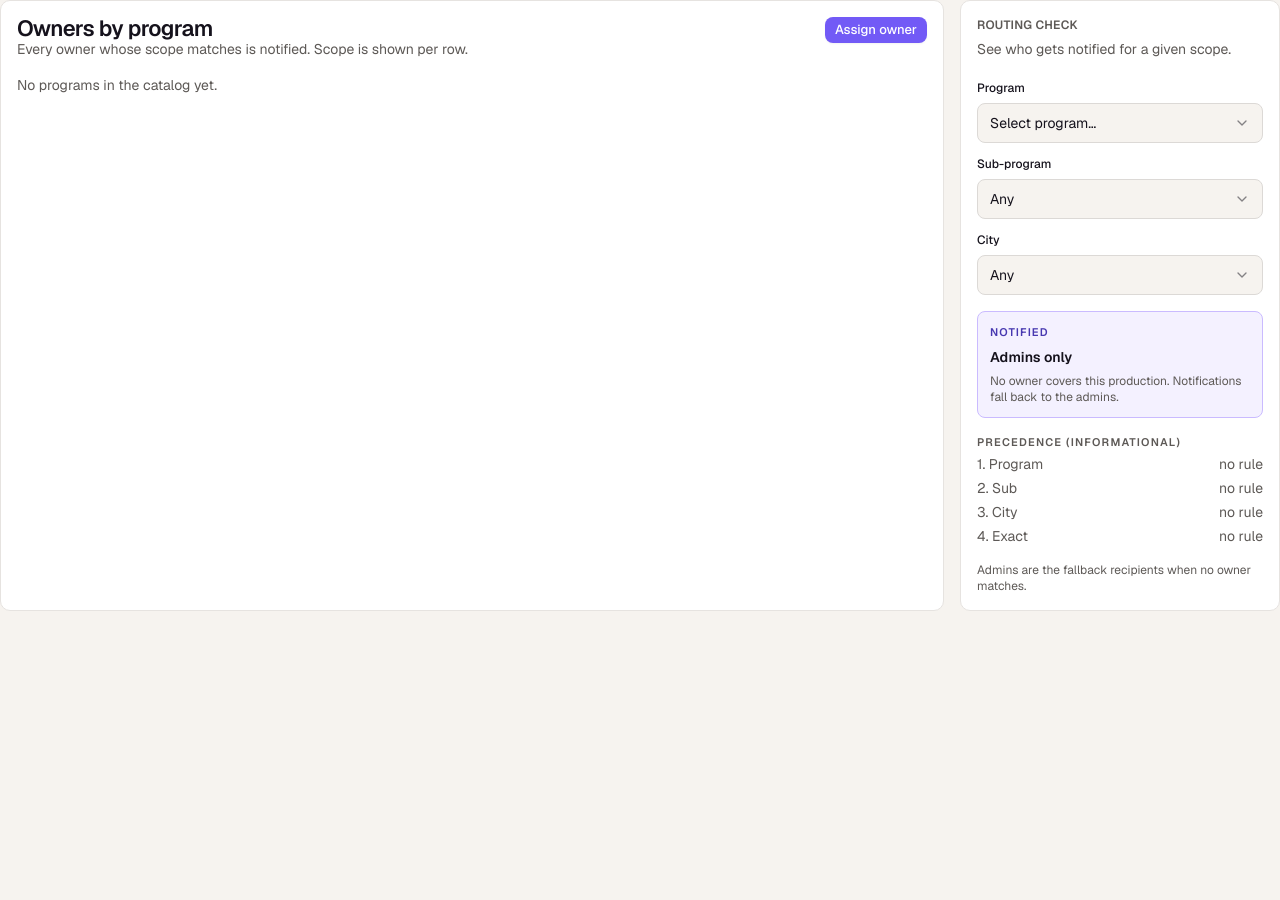
Test case: OwnershipPanel › falls back to admins-only when no assignment matches the routing-check scope
Note: Macbeth has no owner at all.
Click the dropdown labelled "Select program…": (1043, 123) [977,103,1263,143]
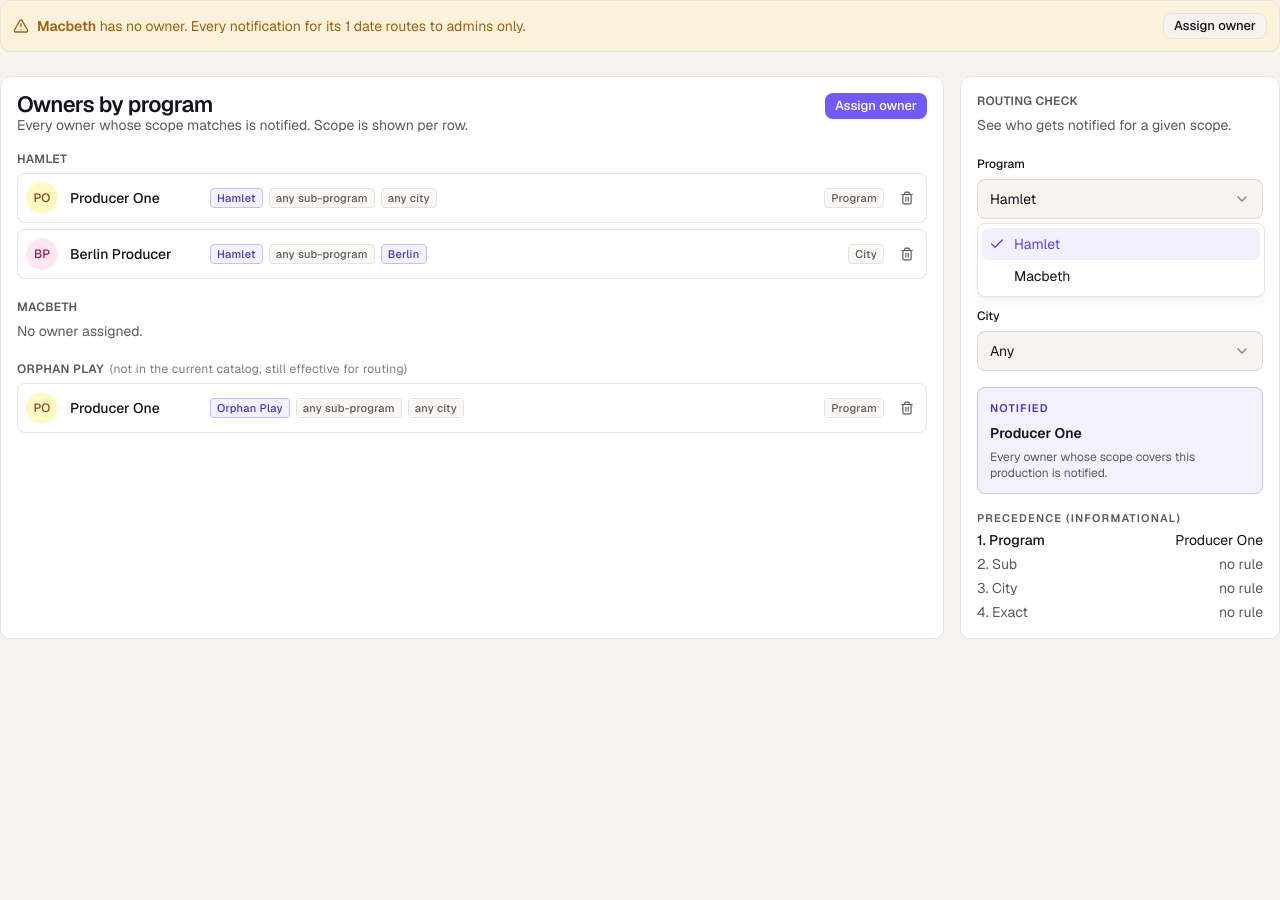
Click the option "Macbeth": (1042, 276) [1014,267,1070,285]
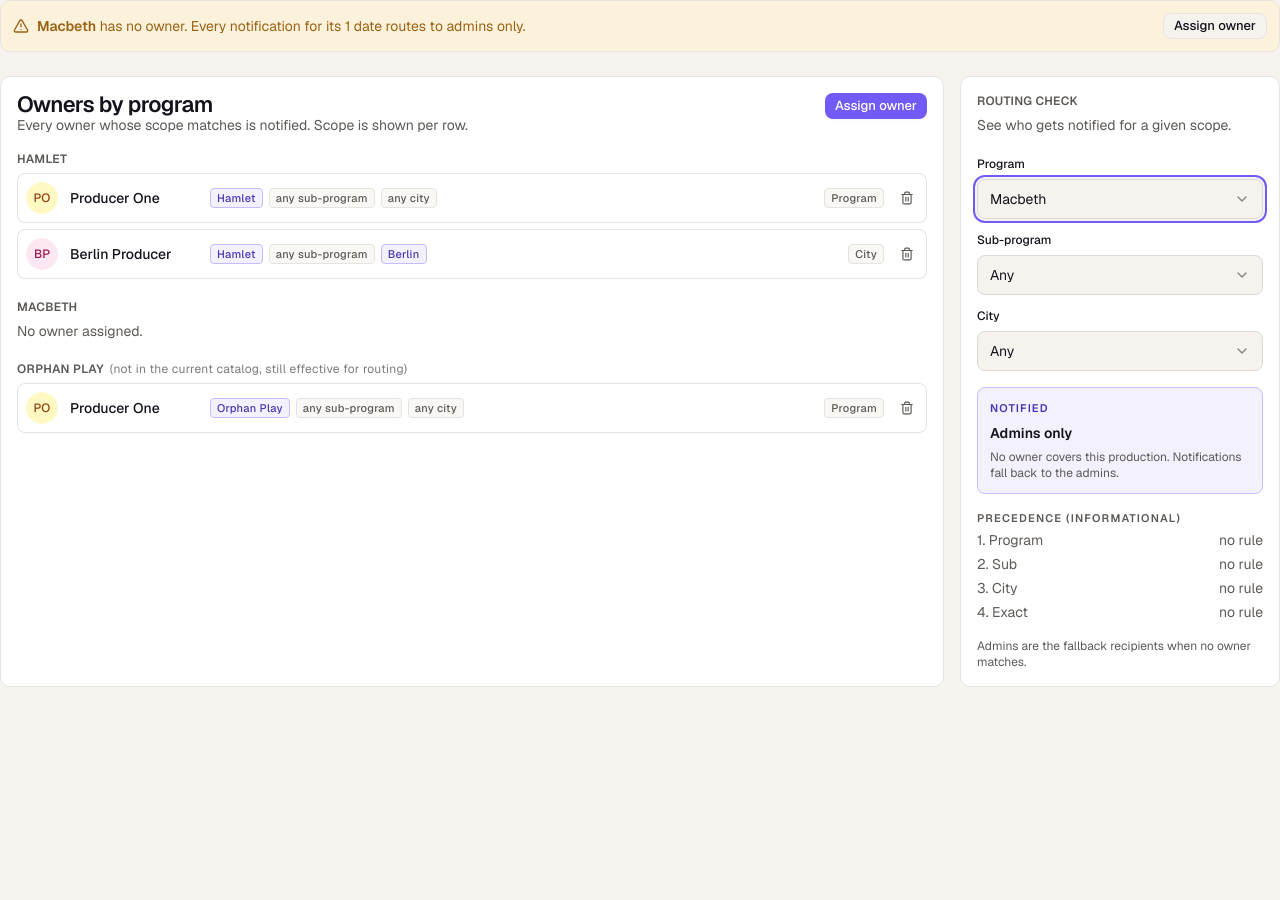
Expected: the text "Admins only" is shown, [990,424,1072,442]
Expected: the text "No owner covers this production. Notifications fall back to the admins." is shown, [990,448,1250,480]
Expected: the text "Admins are the fallback recipients when no owner matches." is shown, [977,638,1263,670]
